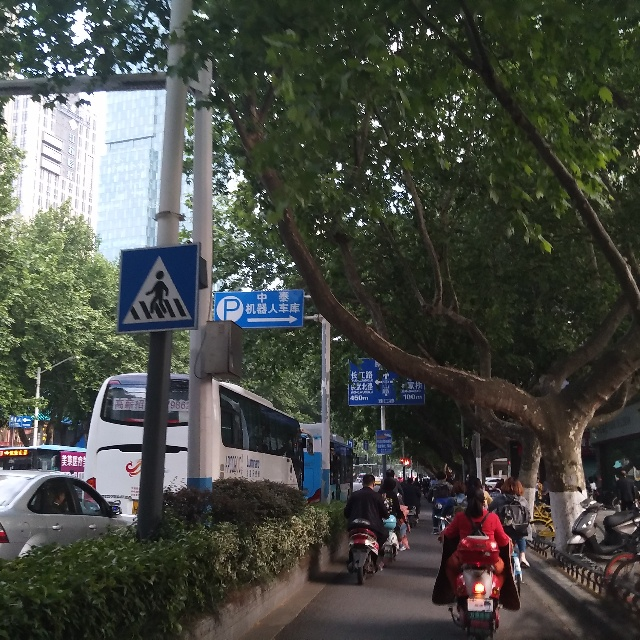crosswalk: (123, 250, 193, 329)
